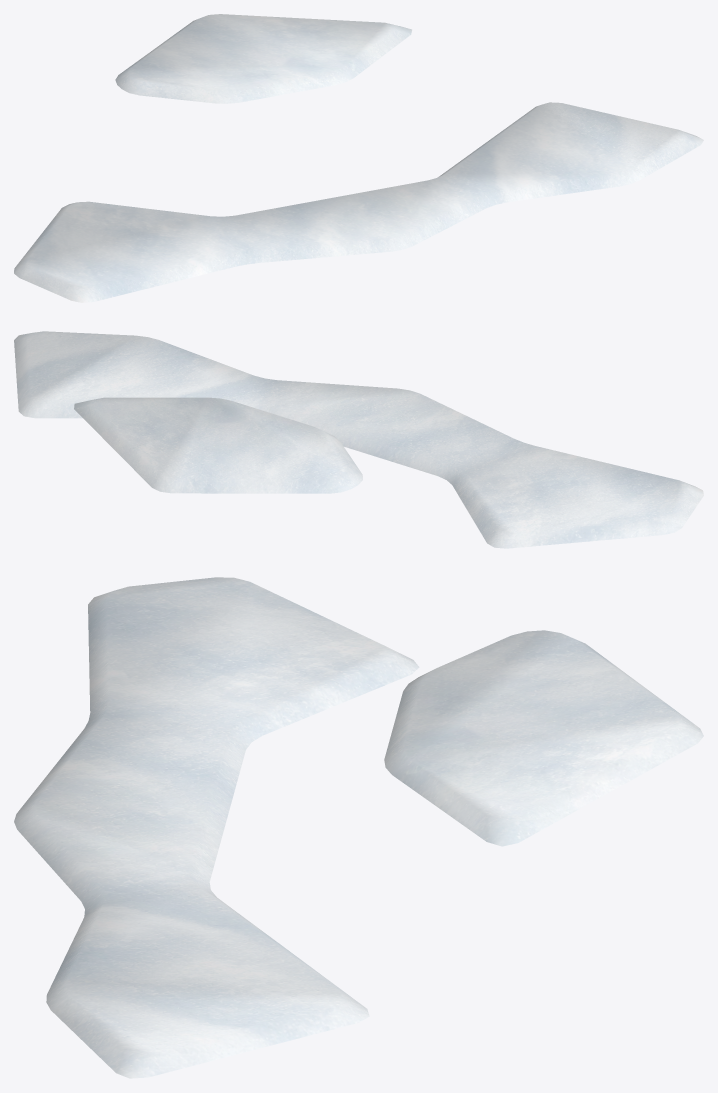
The model's file is Ice_01_Snow.fbx.
3 renders of one model, top to bottom at view 1: azimuth 30°, elevation 25°; view 2: azimuth 150°, elevation 25°; view 3: azimuth 270°, elevation 25°, orthographic. The views are drawn at different scales.
Visible parts, largest first — view 1: Ice_01_Snow; view 2: Ice_01_Snow; view 3: Ice_01_Snow.
Part boxes in pixels (x1,y1,x2,y2): Ice_01_Snow: (14,14,703,302); Ice_01_Snow: (14,331,703,548); Ice_01_Snow: (14,577,703,1078).
Bounding box in the file's own units: 1006 × 589 × 107.
